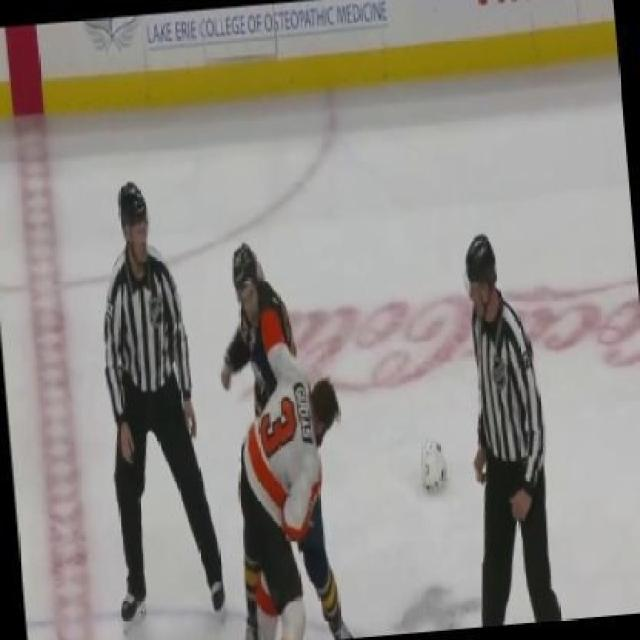fight: (186, 234, 374, 638)
non-fight: (71, 177, 231, 629), (437, 226, 578, 634)
